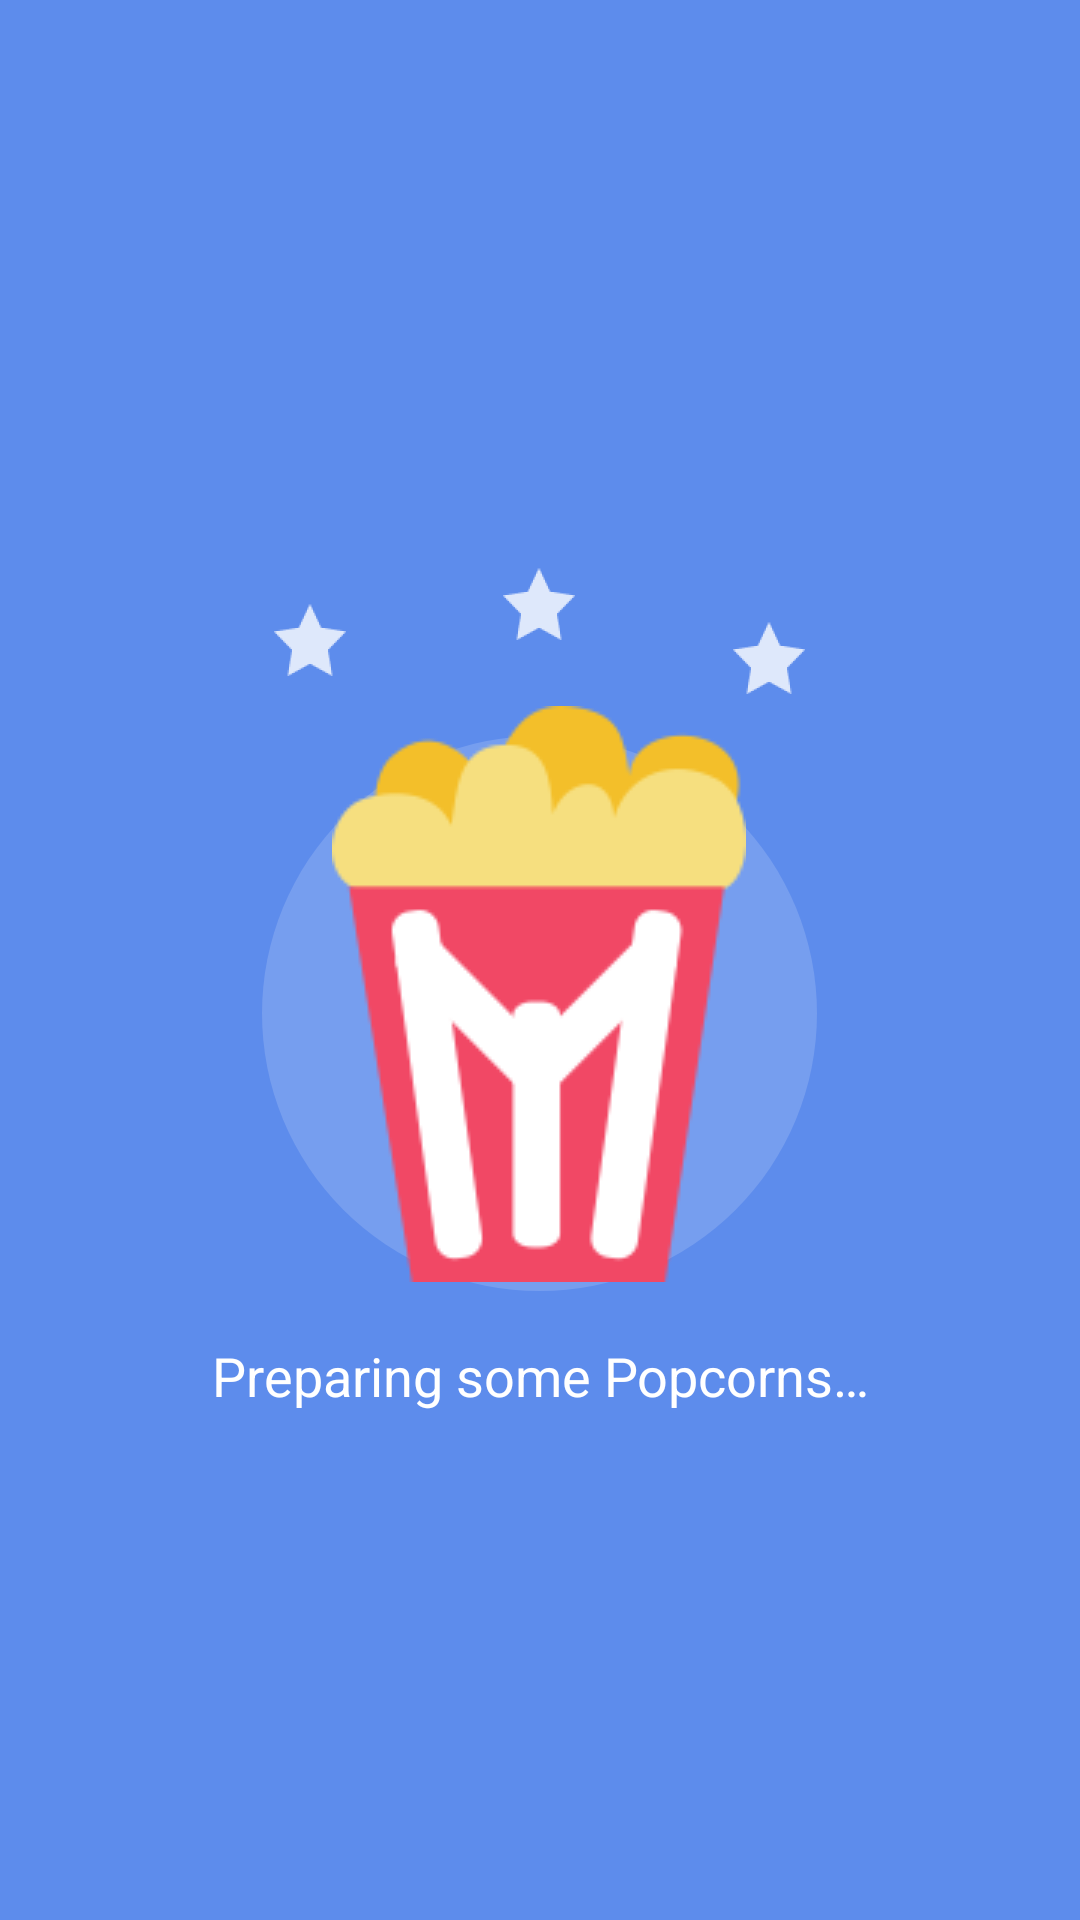

Named icons in this screenshot (1080*1920) and their bounding boxes, {"x1": x1, "y1": y1, "x2": x2, "y2": y2}:
Star icon: {"x1": 503, "y1": 568, "x2": 575, "y2": 640}, {"x1": 274, "y1": 604, "x2": 346, "y2": 676}, {"x1": 733, "y1": 622, "x2": 805, "y2": 694}
